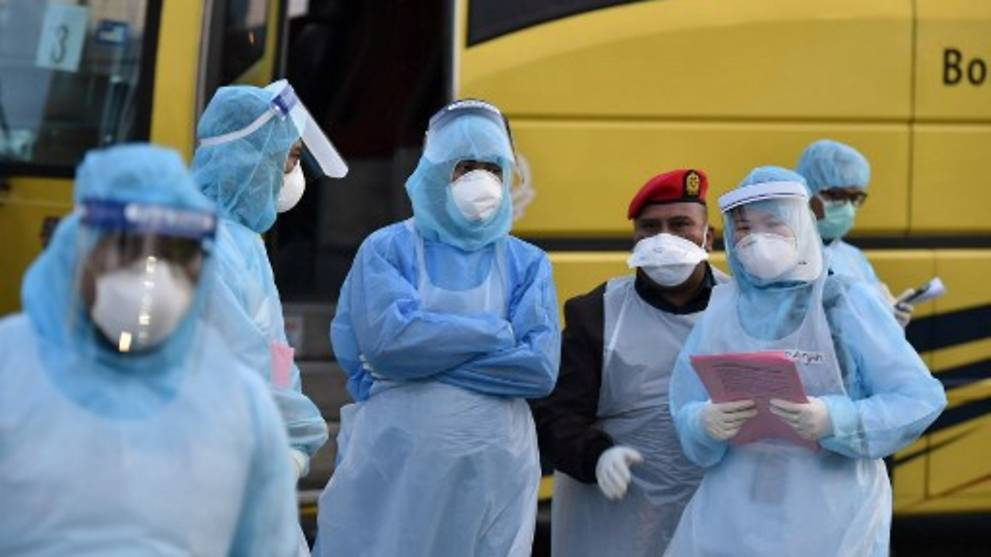Coverall: (1, 147, 315, 557), (306, 102, 564, 557), (673, 165, 948, 557), (185, 79, 330, 465), (791, 138, 927, 329)
Face_Shield: (55, 190, 223, 387), (418, 99, 528, 202), (250, 80, 356, 184), (719, 179, 815, 293)
with_mask: (90, 230, 190, 349), (627, 204, 702, 290), (729, 212, 798, 279), (448, 156, 509, 223), (273, 141, 311, 220), (818, 185, 864, 239)
